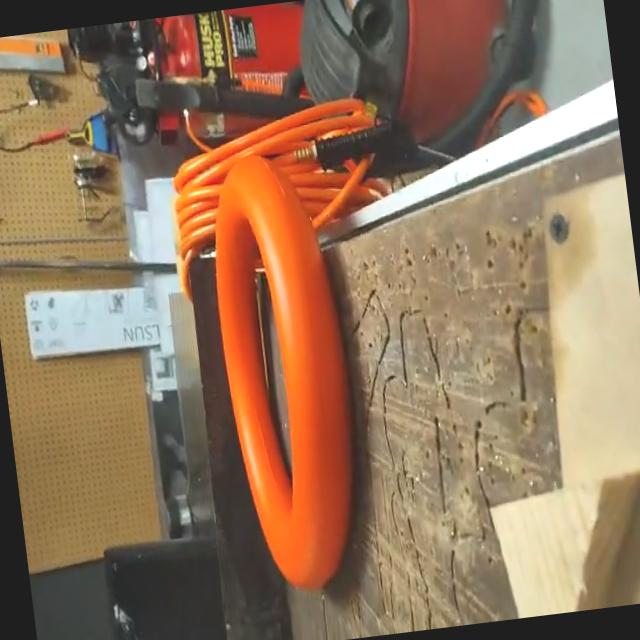note: (198, 142, 370, 598)
